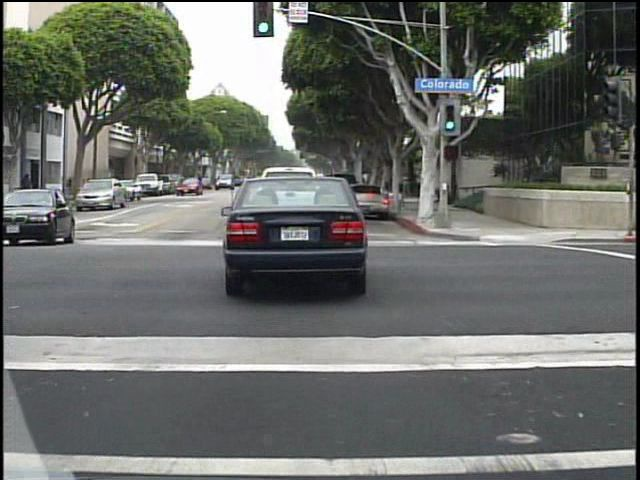person: (18, 169, 37, 208)
